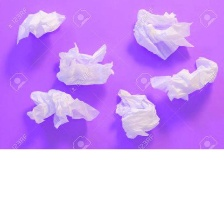tissue: (20, 83, 104, 134), (127, 4, 198, 64), (144, 51, 221, 106), (50, 37, 118, 91), (111, 85, 162, 141), (11, 5, 69, 49)
